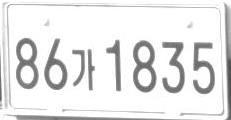1: (104, 39, 128, 91)
3: (161, 41, 185, 94)
5: (192, 41, 215, 95)
6: (43, 37, 67, 91)
8: (132, 39, 156, 93), (15, 37, 39, 90)
가: (71, 48, 95, 90)
